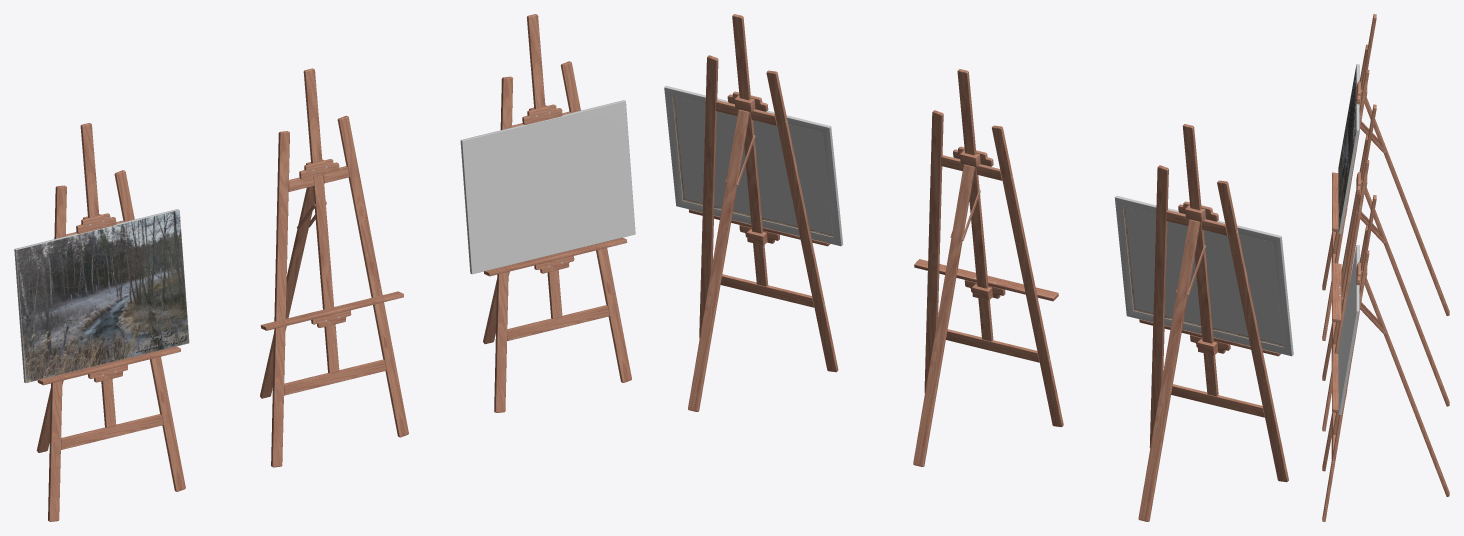
The model's file is obj_easel_easel_with_painting_449501.glb.
3 renders of one model, left to right at view 1: azimuth 30°, elevation 25°; view 2: azimuth 150°, elevation 25°; view 3: azimuth 270°, elevation 25°, orthographic. The views are drawn at different scales.
Visible parts, largest first — view 1: obj_easel_easel_with_painting_449501; view 2: obj_easel_easel_with_painting_449501; view 3: obj_easel_easel_with_painting_449501.
Boxes of the visible parts, left/top/right/bottom form: obj_easel_easel_with_painting_449501: left=14, top=14, right=635, bottom=521; obj_easel_easel_with_painting_449501: left=664, top=14, right=1293, bottom=521; obj_easel_easel_with_painting_449501: left=1322, top=14, right=1449, bottom=521.
Size of the model in its own units: 1.24 by 0.7 by 0.2705.
3 materials, 3 textured.
